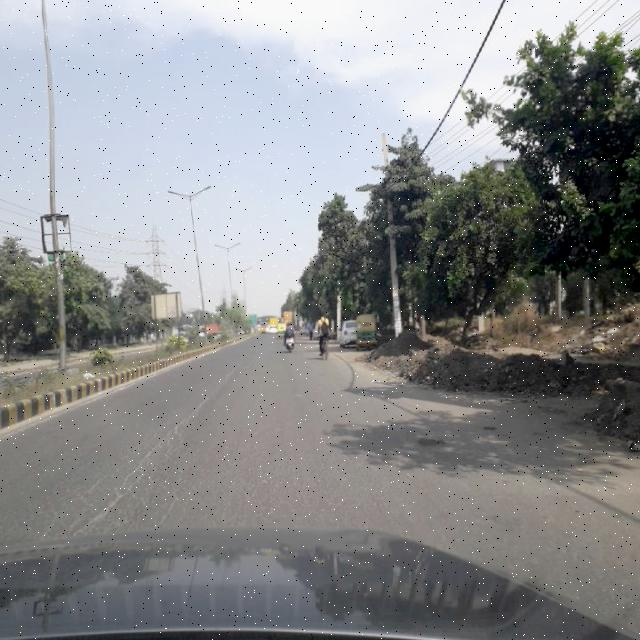D00: (164, 360, 247, 444), (80, 441, 164, 524)
D20: (36, 408, 215, 534)
